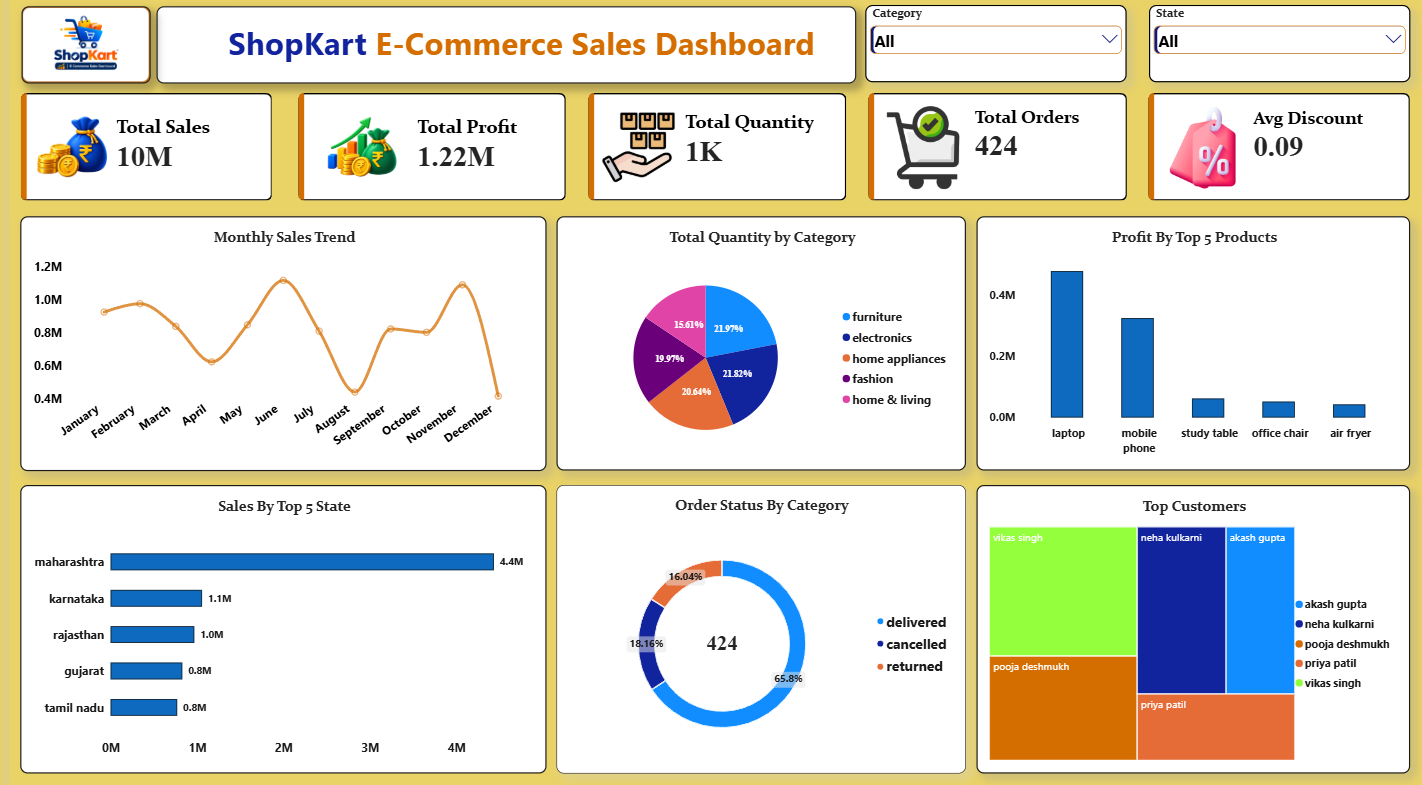

This screenshot's page, from the dashboard's own definition file:
{"tool":"powerbi","page":{"name":"Page 1","canvas":[1920,1080],"ordinal":0},"visuals":[{"type":"textbox","box":[200,14.4,948.9,105],"z":0},{"type":"image","box":[16.5,14.4,175,105],"z":1000},{"type":"cardVisual","fields":{"Data":["Sum(Sheet1.Profit)"]},"box":[391.4,132.8,363.8,146.6],"z":2000},{"type":"cardVisual","fields":{"Data":["Sum(Sheet1.Quantity)"]},"box":[784.5,132.8,350,146.6],"z":3000},{"type":"cardVisual","fields":{"Data":["CountNonNull(Sheet1.Order ID)"]},"box":[1163.8,132.8,351.7,146.6],"z":4000},{"type":"cardVisual","fields":{"Data":["Avg(Sheet1.Discount)"]},"box":[1544.8,132.8,355.2,146.6],"z":5000},{"type":"cardVisual","fields":{"Data":["Sum(Sheet1.Total Sales)"]},"box":[15.5,132.8,341.4,146.6],"z":6000},{"type":"lineChart","title":"Monthly Sales Trend","fields":{"Category":["Sheet1.Order Date.Variation.Date Hierarchy.Month"],"Y":["Sum(Sheet1.Total Sales)"]},"box":[15.9,300,713.6,345.5],"z":7000},{"type":"pieChart","fields":{"Category":["Sheet1.Category"],"Y":["Sum(Sheet1.Quantity)"]},"box":[743.1,300,555.2,344.8],"z":8000},{"type":"clusteredBarChart","title":"Sales By Top 5 State","fields":{"Category":["Sheet1.New State"],"Y":["Sum(Sheet1.Total Sales)"]},"box":[15.9,663.6,713.6,390.9],"z":9000},{"type":"donutChart","title":"Order Status By Category","fields":{"Y":["CountNonNull(Sheet1.Category)"],"Category":["Sheet1.Order Status"]},"box":[743.1,663.8,555.2,391.4],"z":10000},{"type":"columnChart","title":"Profit By Top 5 Products","fields":{"Y":["Sum(Sheet1.Profit)"],"Category":["Sheet1.Product"]},"box":[1312.1,300,587.9,344.8],"z":11000},{"type":"treemap","title":"Top Customers","fields":{"Values":["Sum(Sheet1.Total Sales)"],"Details":["Sheet1.Customer Name"]},"box":[1312.1,663.8,587.9,391.4],"z":12000},{"type":"slicer","fields":{"Values":["Sheet1.Category"]},"box":[1161.4,13.6,354.5,104.5],"z":13000},{"type":"slicer","fields":{"Values":["Sheet1.New State"]},"box":[1545.5,13.6,354.5,104.5],"z":14000}]}

Visuals, with their boxes in screenshot pixels (x1, y1, x2, y2), scaled from the page's 1920x1080 canvas onto the 1422x785 screenshot:
textbox: {"x1": 148, "y1": 10, "x2": 851, "y2": 87}
image: {"x1": 12, "y1": 10, "x2": 142, "y2": 87}
cardVisual - Sum(Sheet1.Profit): {"x1": 290, "y1": 97, "x2": 559, "y2": 203}
cardVisual - Sum(Sheet1.Quantity): {"x1": 581, "y1": 97, "x2": 840, "y2": 203}
cardVisual - CountNonNull(Sheet1.Order ID): {"x1": 862, "y1": 97, "x2": 1122, "y2": 203}
cardVisual - Avg(Sheet1.Discount): {"x1": 1144, "y1": 97, "x2": 1407, "y2": 203}
cardVisual - Sum(Sheet1.Total Sales): {"x1": 11, "y1": 97, "x2": 264, "y2": 203}
"Monthly Sales Trend" lineChart: {"x1": 12, "y1": 218, "x2": 540, "y2": 469}
pieChart - Sheet1.Category x Sum(Sheet1.Quantity): {"x1": 550, "y1": 218, "x2": 962, "y2": 469}
"Sales By Top 5 State" clusteredBarChart: {"x1": 12, "y1": 482, "x2": 540, "y2": 766}
"Order Status By Category" donutChart: {"x1": 550, "y1": 482, "x2": 962, "y2": 767}
"Profit By Top 5 Products" columnChart: {"x1": 972, "y1": 218, "x2": 1407, "y2": 469}
"Top Customers" treemap: {"x1": 972, "y1": 482, "x2": 1407, "y2": 767}
slicer - Sheet1.Category: {"x1": 860, "y1": 10, "x2": 1123, "y2": 86}
slicer - Sheet1.New State: {"x1": 1145, "y1": 10, "x2": 1407, "y2": 86}
